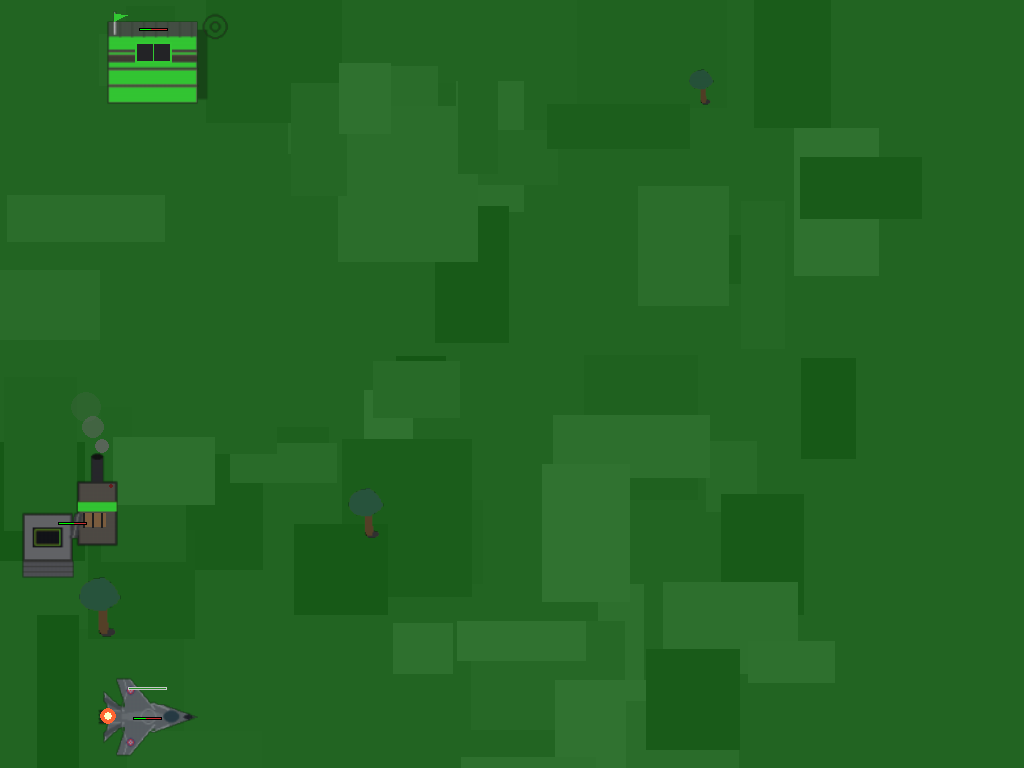APC_rus: (97, 0, 207, 110)
FactoryBuilding: (17, 466, 127, 576)
HIMARS: (122, 690, 173, 741)
